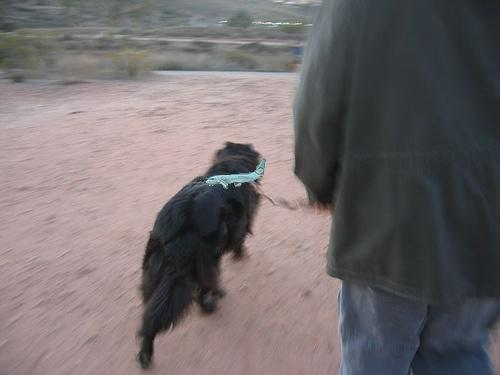tampered: (206, 159, 266, 189)
